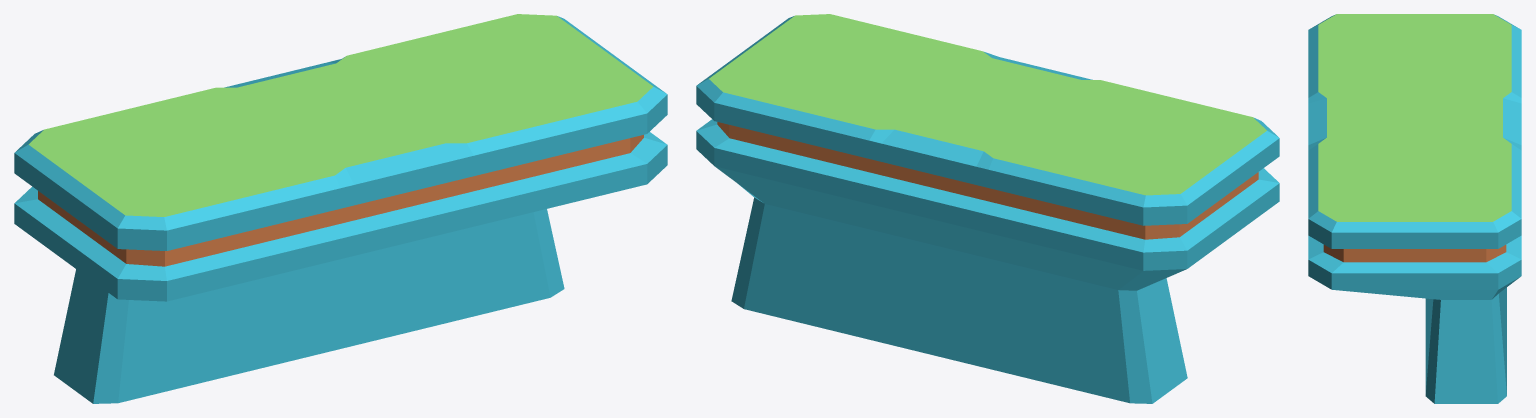
The model's file is Desk.fbx.
3 renders of one model, left to right at view 1: azimuth 30°, elevation 25°; view 2: azimuth 150°, elevation 25°; view 3: azimuth 270°, elevation 25°, orthographic. The views are drawn at different scales.
Visible parts, largest first — view 1: Cube.001; view 2: Cube.001; view 3: Cube.001.
Boxes of the visible parts, box(x1,y1,x2,y2) form: Cube.001: box(14, 14, 667, 403); Cube.001: box(696, 14, 1279, 403); Cube.001: box(1308, 14, 1521, 403).
Bounding box in the file's own units: 180 × 75 × 75.
